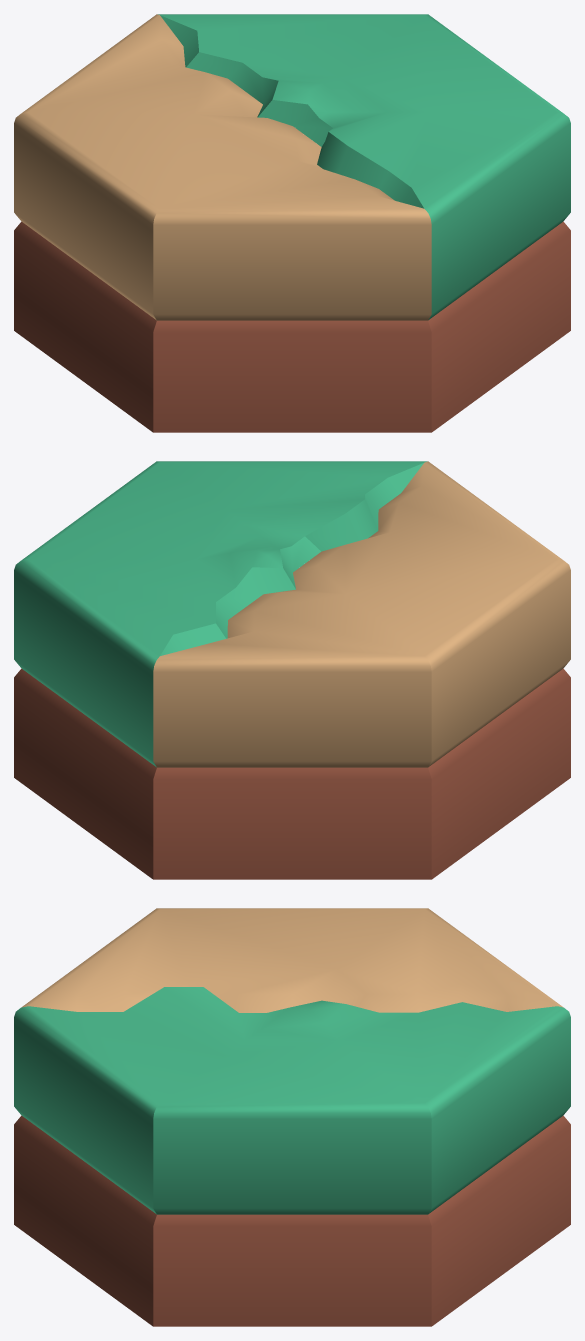
The model's file is kaykit-hex-sand-transitiona.glb.
The picture shows the model from 3 angles, top to bottom: view 1: azimuth 30°, elevation 25°; view 2: azimuth 150°, elevation 25°; view 3: azimuth 270°, elevation 25°; orthographic projection.
Visible parts, largest first — view 1: hex_sand_transitionA; view 2: hex_sand_transitionA; view 3: hex_sand_transitionA.
Part boxes in pixels (x1,y1,x2,y2): hex_sand_transitionA: [14, 14, 570, 432]; hex_sand_transitionA: [14, 461, 570, 879]; hex_sand_transitionA: [14, 908, 570, 1326].
Size of the model in its own units: 2 by 1.07 by 2.31.
